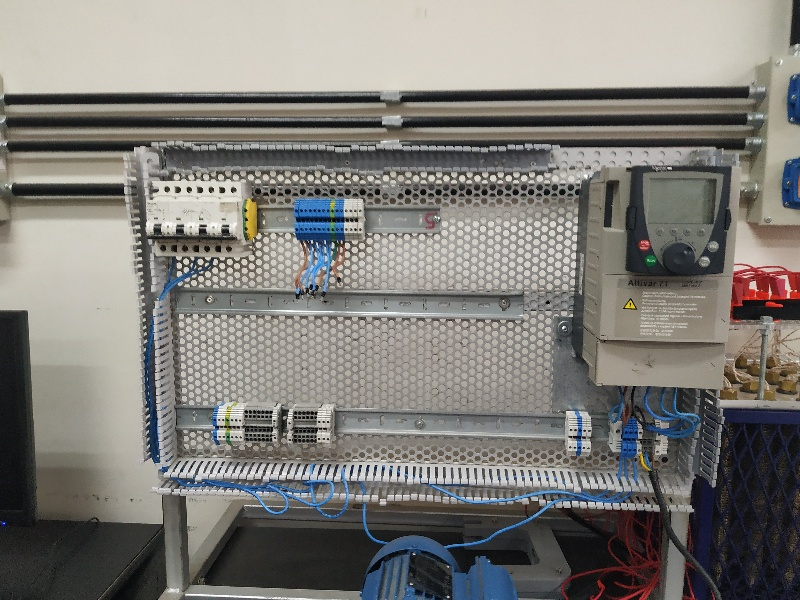Tablero 0: (135, 150, 737, 510)
